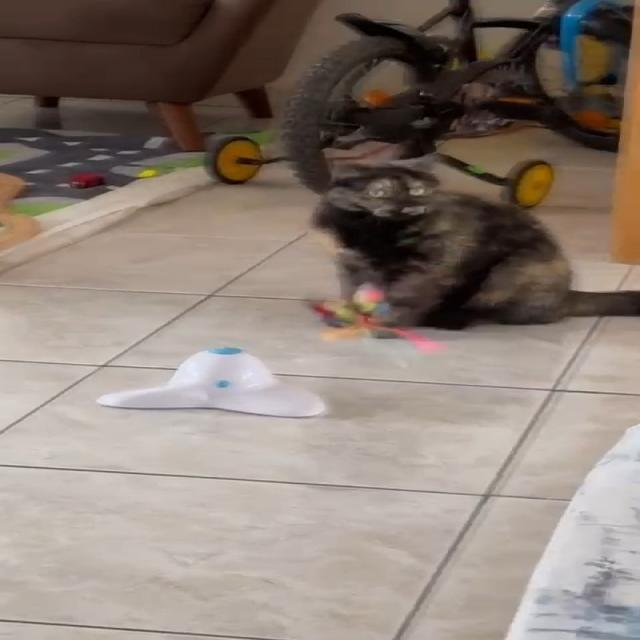authorized: (308, 164, 639, 330)
